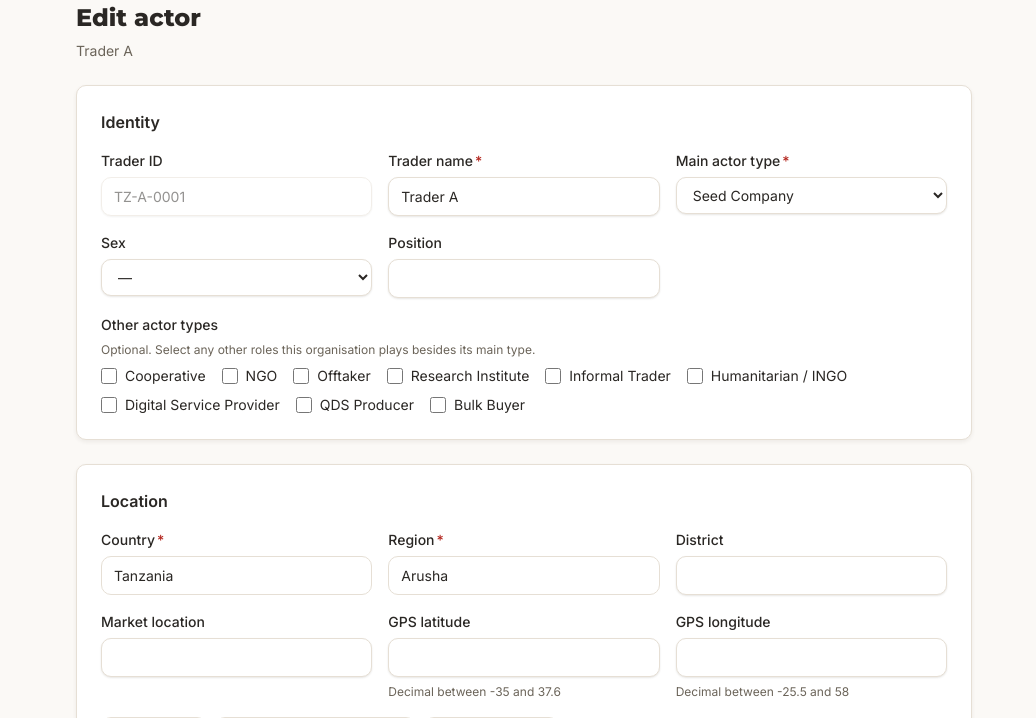
Test: EditActorPage — evidence panel and stale-form reload (T-11, FR-14, D-26) › a 409 on expectedUpdatedAt shows the notice; Reload re-reads the actor and remounts the form on it
Replace the text in the field labelled "Trader name*" with "Typed By The Admin" at (524, 196), box [388,177,660,216]
(page scrolled)
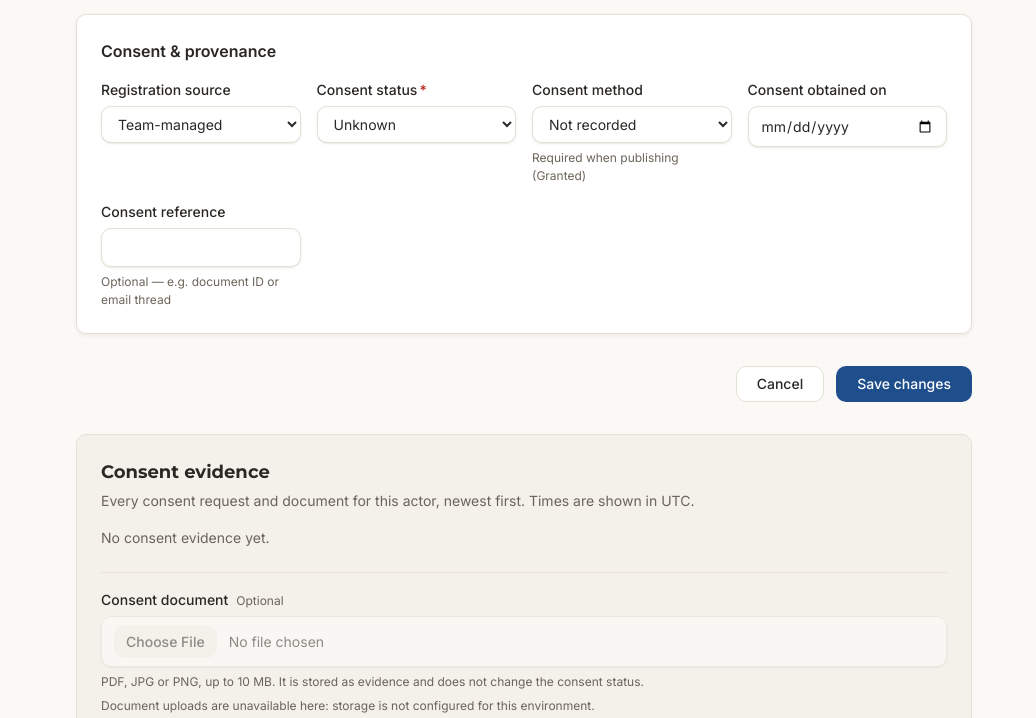
Click the button "Save changes" at (904, 384), box [836,366,972,402]
(page scrolled)
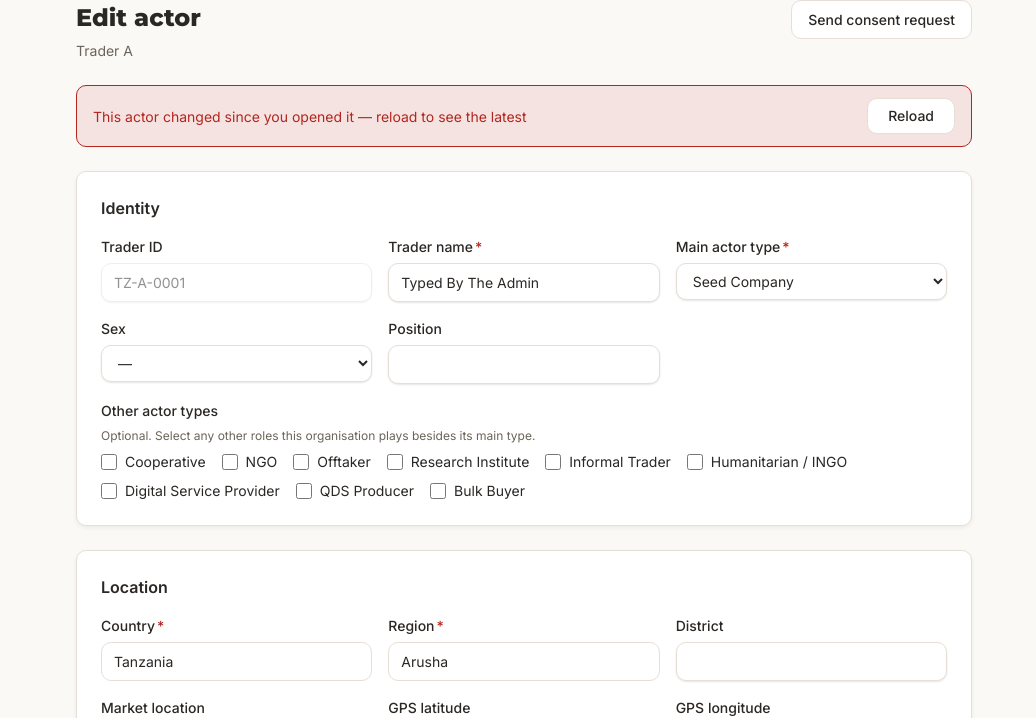
Click the button "Reload" at (911, 116), box [867,98,955,134]
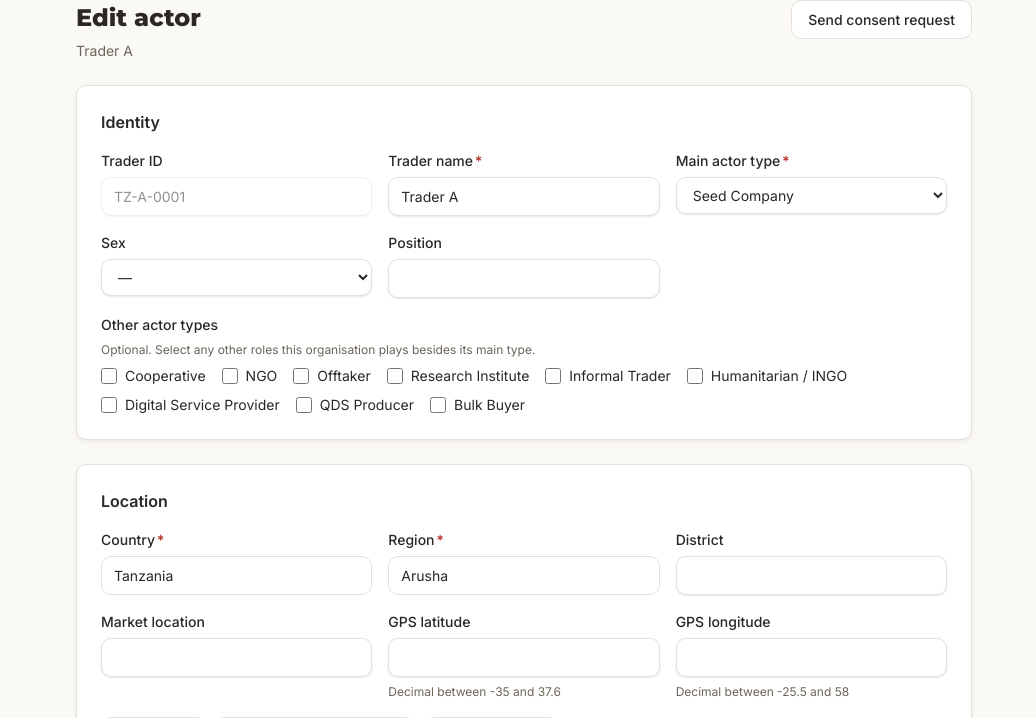
Expected: the field labelled "Trader name*" holds "Trader A", [388,177,660,216]
Expected: the text "changed since you opened it" is gone
